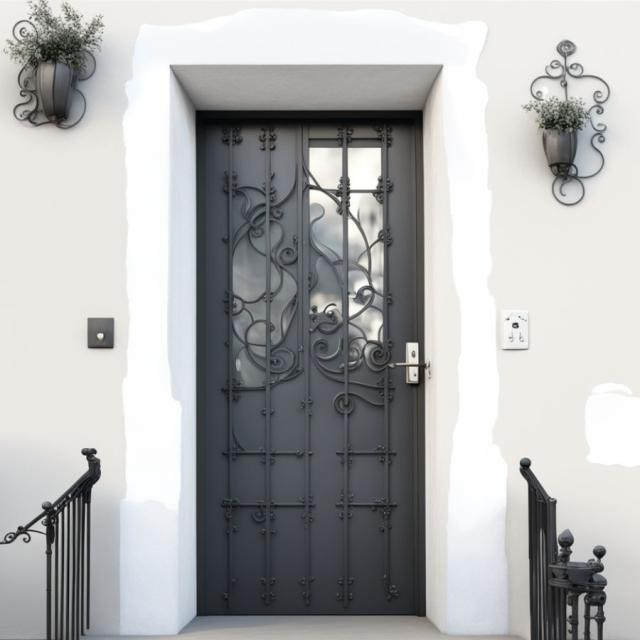door: (195, 110, 426, 617)
